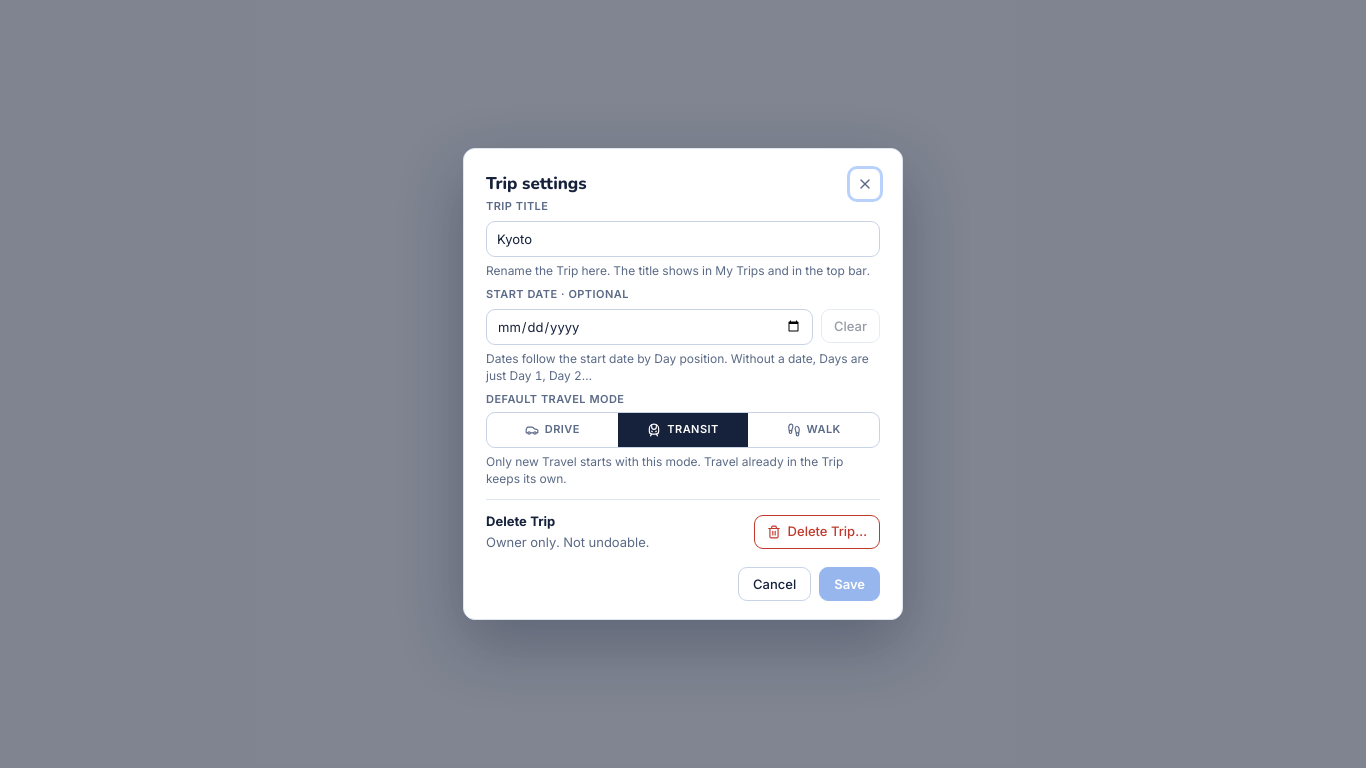
Test: Trip settings › cannot be cancelled or closed while the save is in flight
Type "2026-12-01" into the date field labelled "Start date · optional".
click(650, 327); type("2026-12-01")  # box [486,309,813,345]
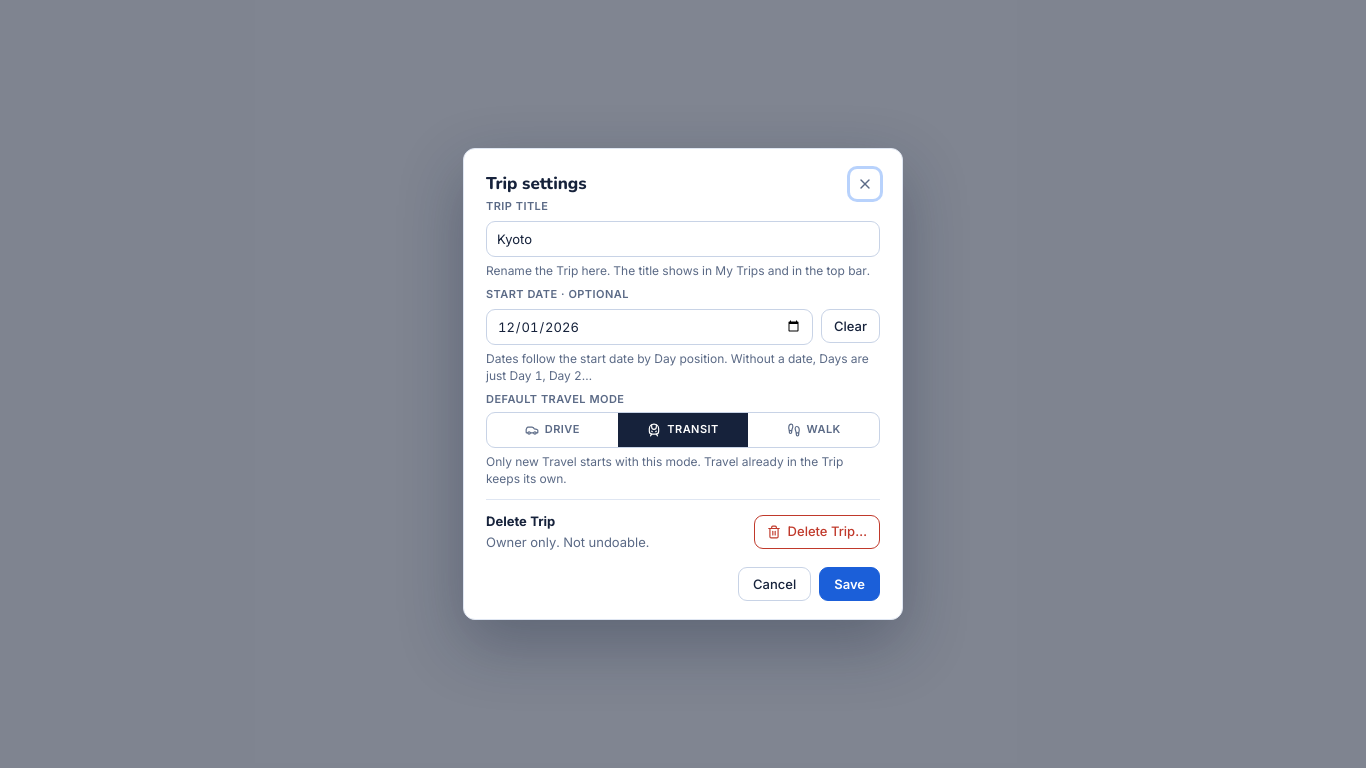
Click the button "Save".
click(850, 584)  # box [819,567,880,601]
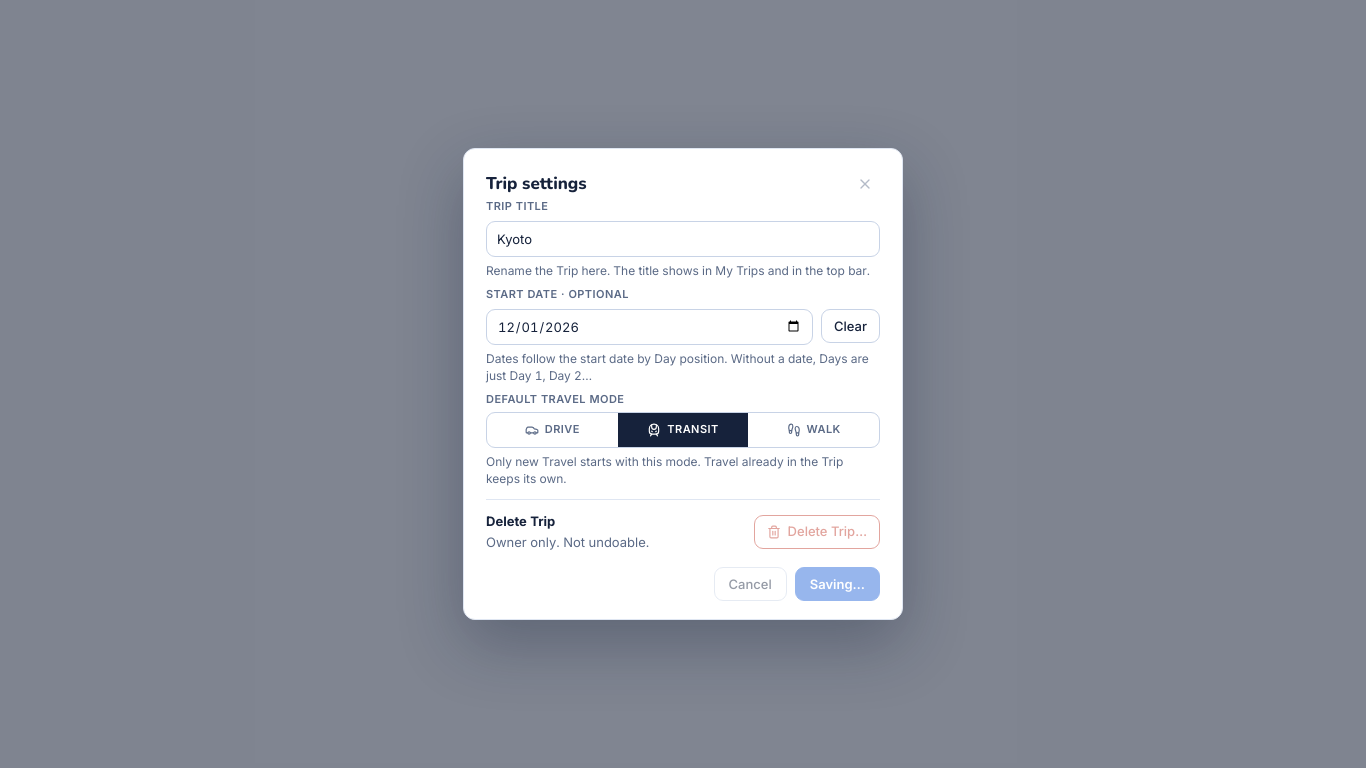
Expected: the button "Cancel" is disabled, [714,567,787,601]
Expected: the button named "Close" is disabled, [850,169,880,199]
